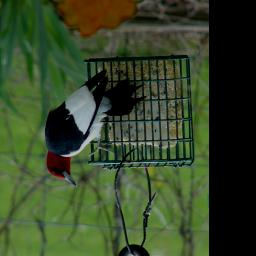Woodpecker: (45, 69, 147, 186)
